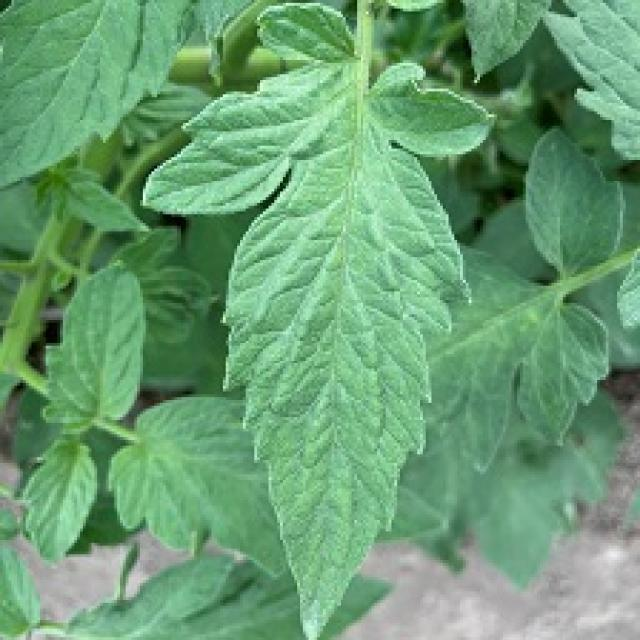Healthy: (92, 0, 640, 639)
